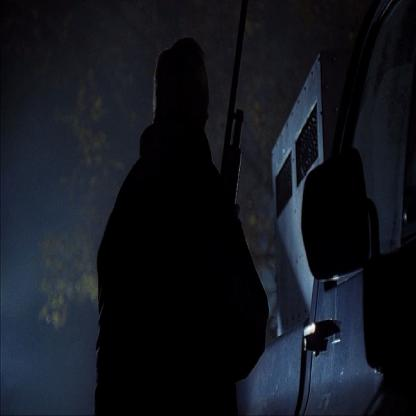Guns: (217, 55, 250, 229)
